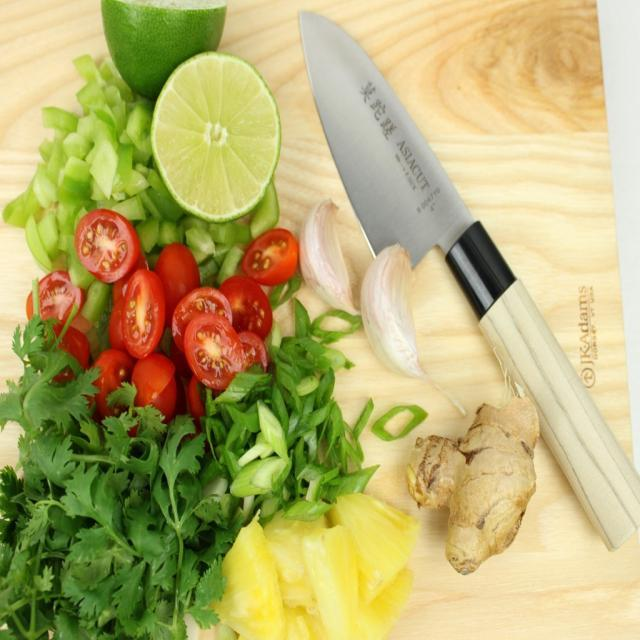Knife: (301, 12, 640, 548)
